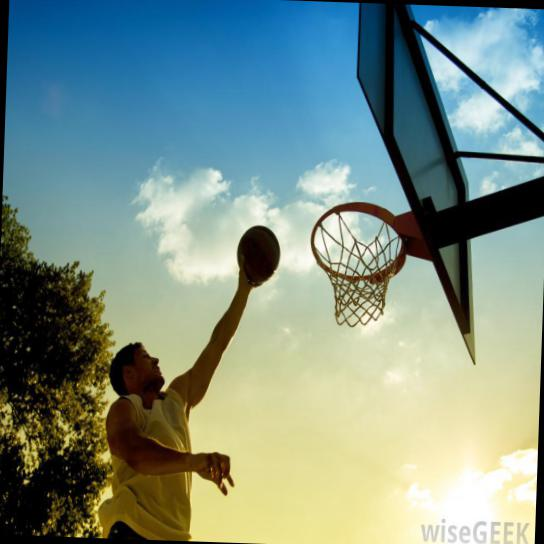basketball-hoop: (306, 199, 410, 335)
